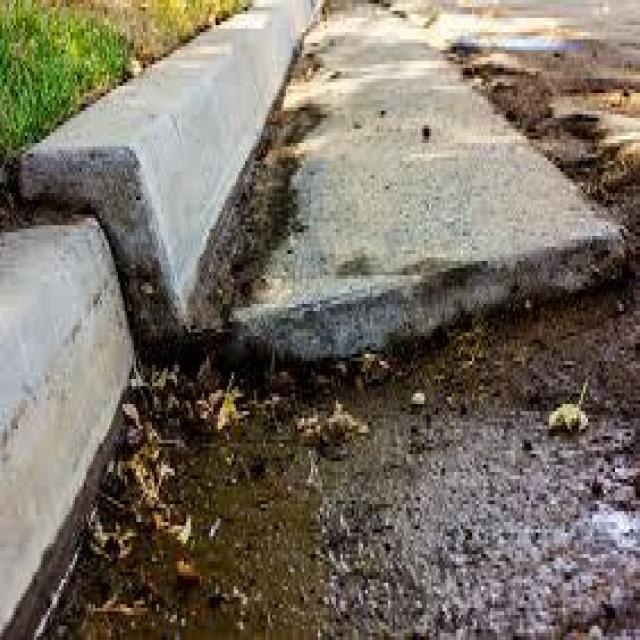curb: (1, 1, 328, 640)
